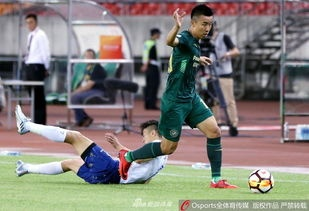falling: (3, 97, 173, 186)
